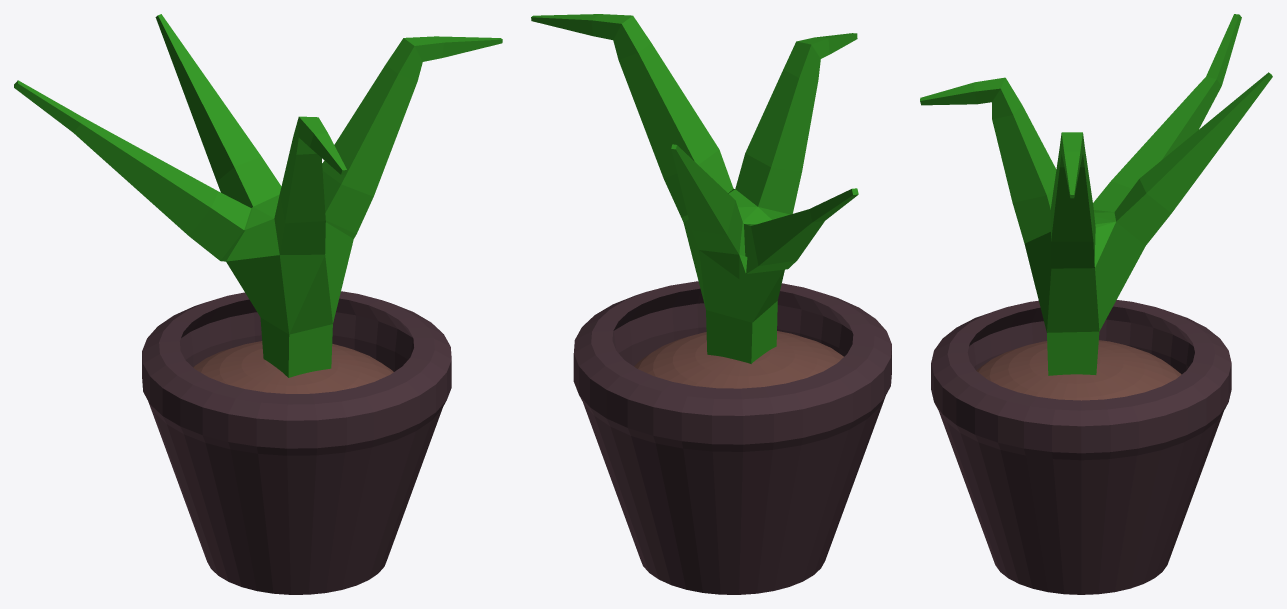
Rendered from PlantSmall.fbx.
3 views of the same model, side by side, from view 1: azimuth 30°, elevation 25°; view 2: azimuth 150°, elevation 25°; view 3: azimuth 270°, elevation 25° (orthographic). The views are drawn at different scales.
Parts seen in each view (by area): view 1: PlantSmall; view 2: PlantSmall; view 3: PlantSmall.
Boxes of the visible parts, bbox=[...] form: PlantSmall: bbox=[14, 14, 502, 594]; PlantSmall: bbox=[531, 14, 891, 594]; PlantSmall: bbox=[920, 14, 1272, 594].
Bounding box in the file's own units: 154 × 121 × 180.
